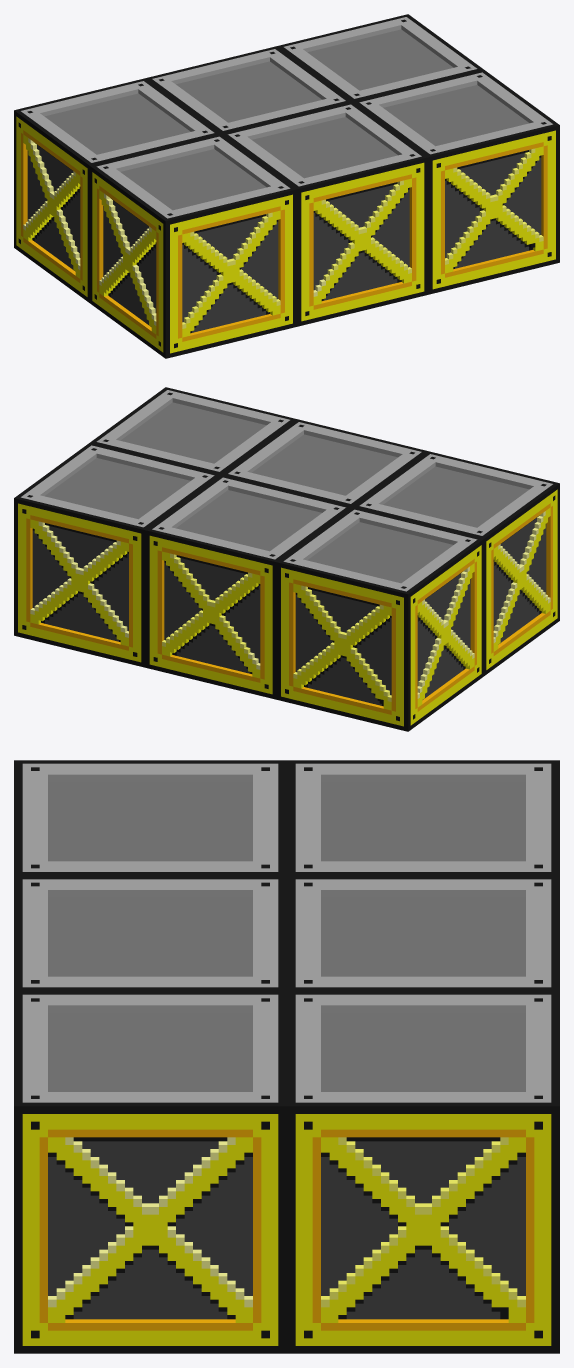
Rendered from Caixas 2.obj.
3 views of the same model, one above another, from view 1: azimuth 30°, elevation 25°; view 2: azimuth 150°, elevation 25°; view 3: azimuth 270°, elevation 25° (orthographic). The views are drawn at different scales.
Size of the model in its own units: 9.6 by 3.2 by 6.4.
Materials: 1 (1 with a texture image).
